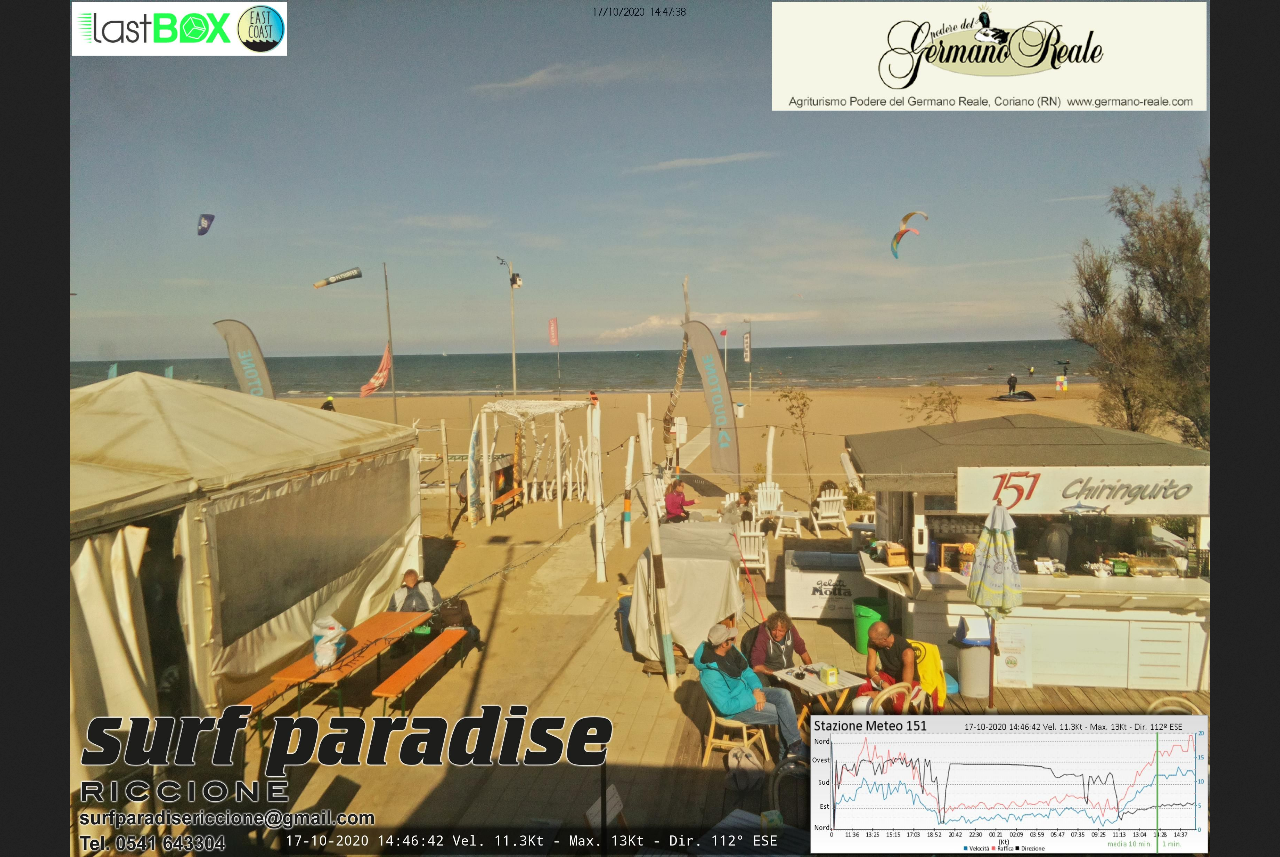maybe: (357, 341, 395, 402)
yes: (546, 315, 560, 348)
